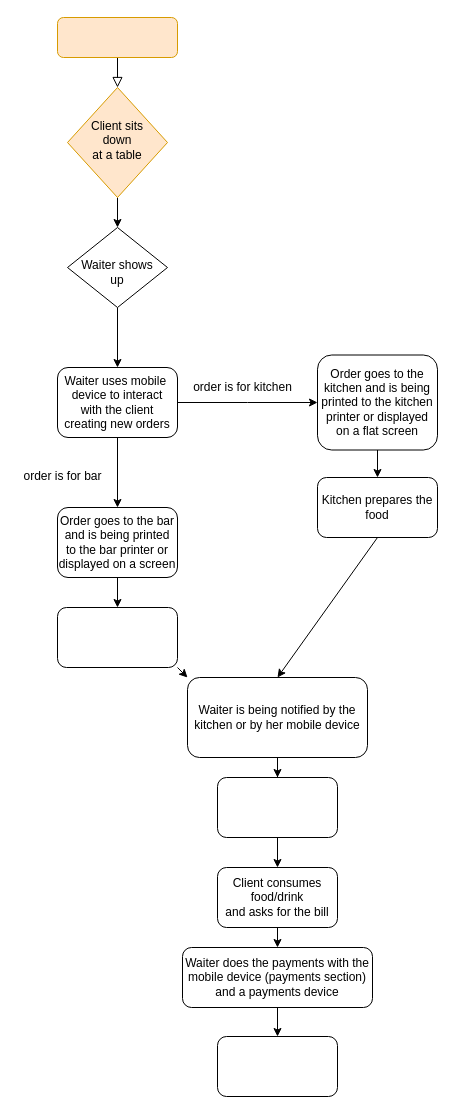
Image size: 455x1114. Some labels were removed from this diagram. Here are the shapes that lost their labels. From the top down, the box of each, then its label:
(56, 16, 178, 58): Start
(56, 606, 178, 668): Bar prepares the drink
(216, 776, 338, 838): Food/Drink is being delivered to the client
(216, 1036, 338, 1096): Client leaves the restaurant
